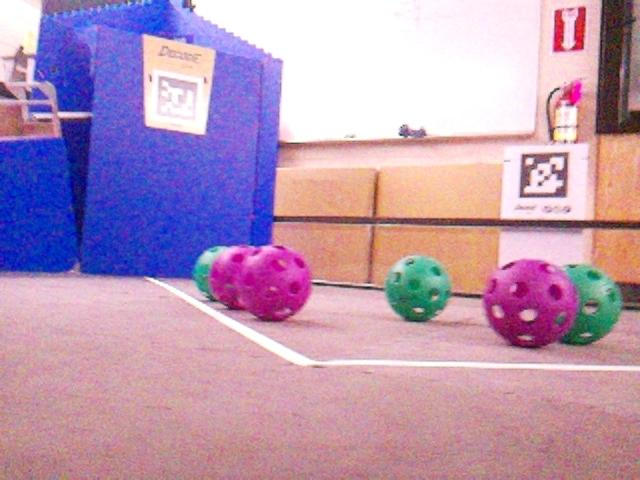Green: (557, 264, 624, 345), (384, 255, 451, 321), (192, 245, 229, 299)
Purple: (481, 259, 576, 347), (235, 245, 311, 319), (210, 244, 249, 310)
